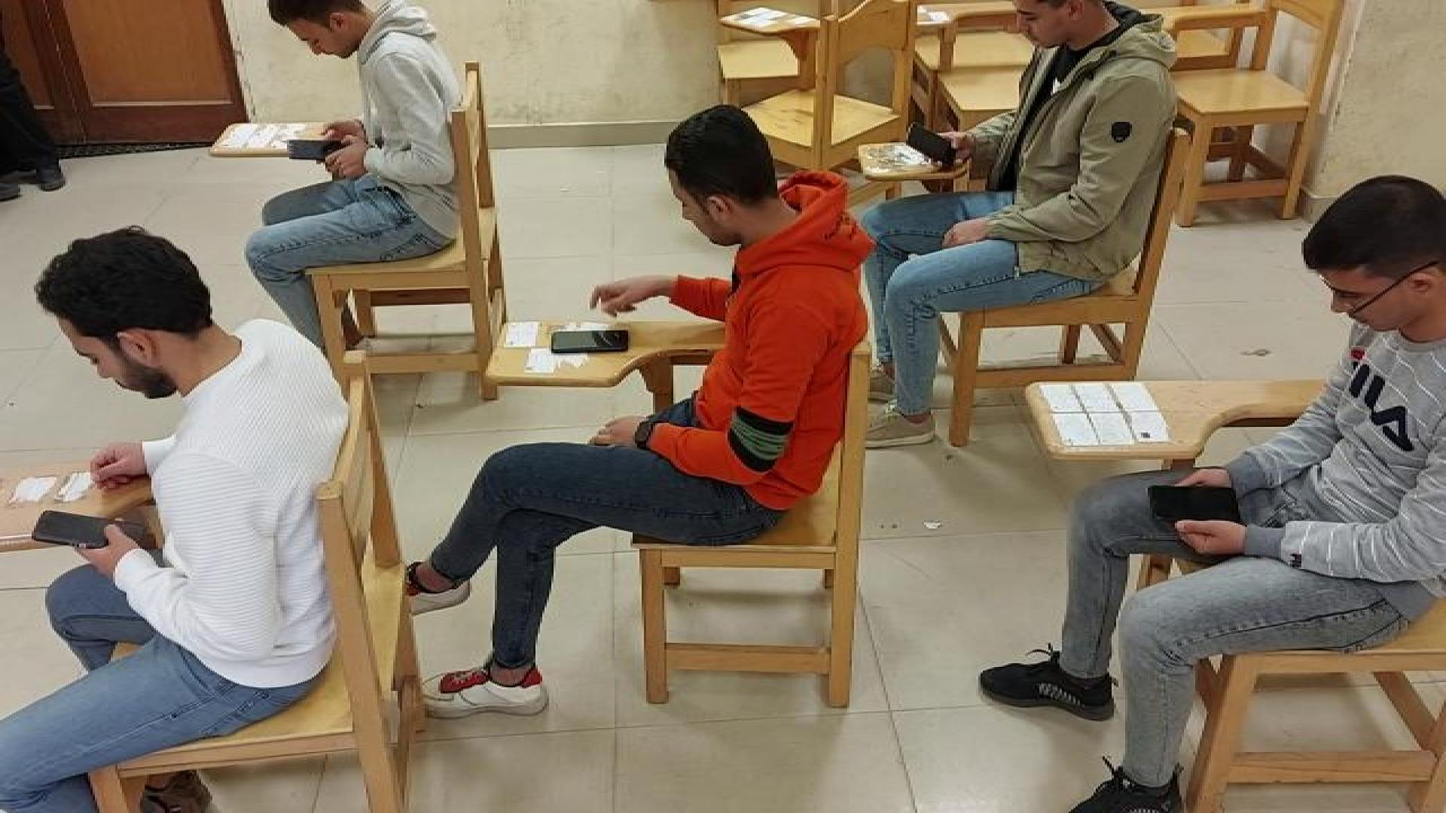phone: (1150, 480, 1249, 528), (29, 508, 149, 547), (901, 123, 962, 172), (546, 324, 634, 352), (287, 132, 359, 164)
